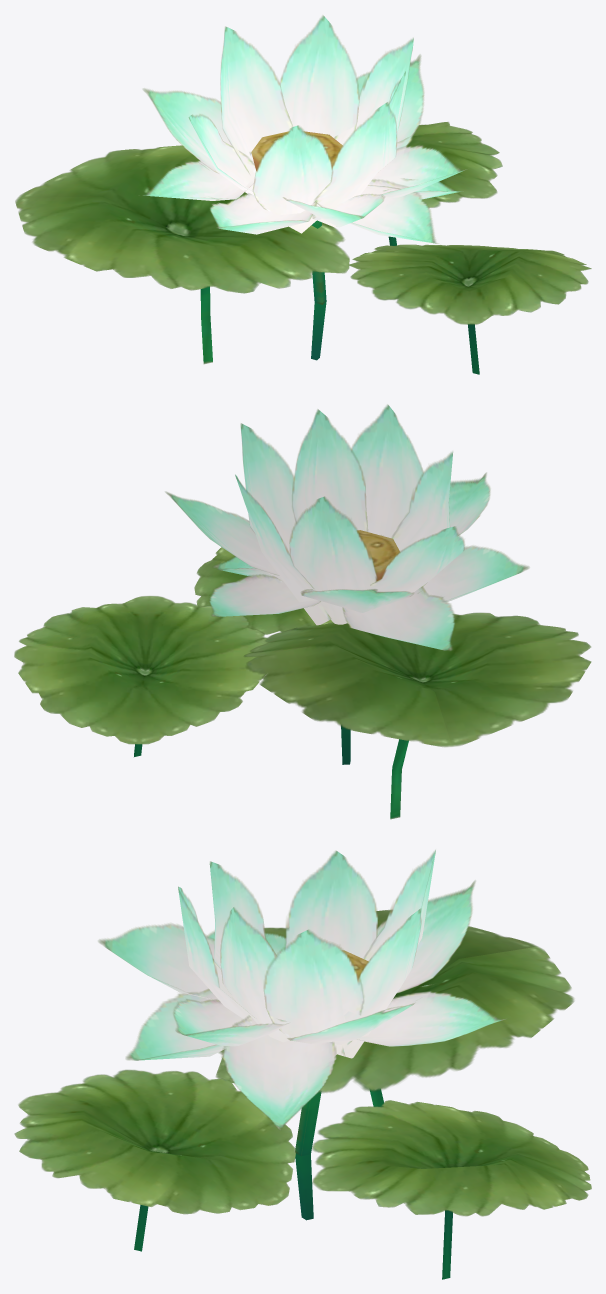
Rendered from thystame.glb.
The picture shows the model from 3 angles, top to bottom: view 1: azimuth 30°, elevation 25°; view 2: azimuth 150°, elevation 25°; view 3: azimuth 270°, elevation 25°; orthographic projection. The views are drawn at different scales.
Visible parts, largest first — view 1: MC_M_10002; view 2: MC_M_10002; view 3: MC_M_10002.
Boxes of the visible parts, left/top/right/bottom form: MC_M_10002: left=15, top=15, right=591, bottom=374; MC_M_10002: left=14, top=404, right=591, bottom=819; MC_M_10002: left=14, top=850, right=591, bottom=1279.
Bounding box in the file's own units: 0.00554 × 0.00342 × 0.00497.
Materials: 1 (1 with a texture image).
